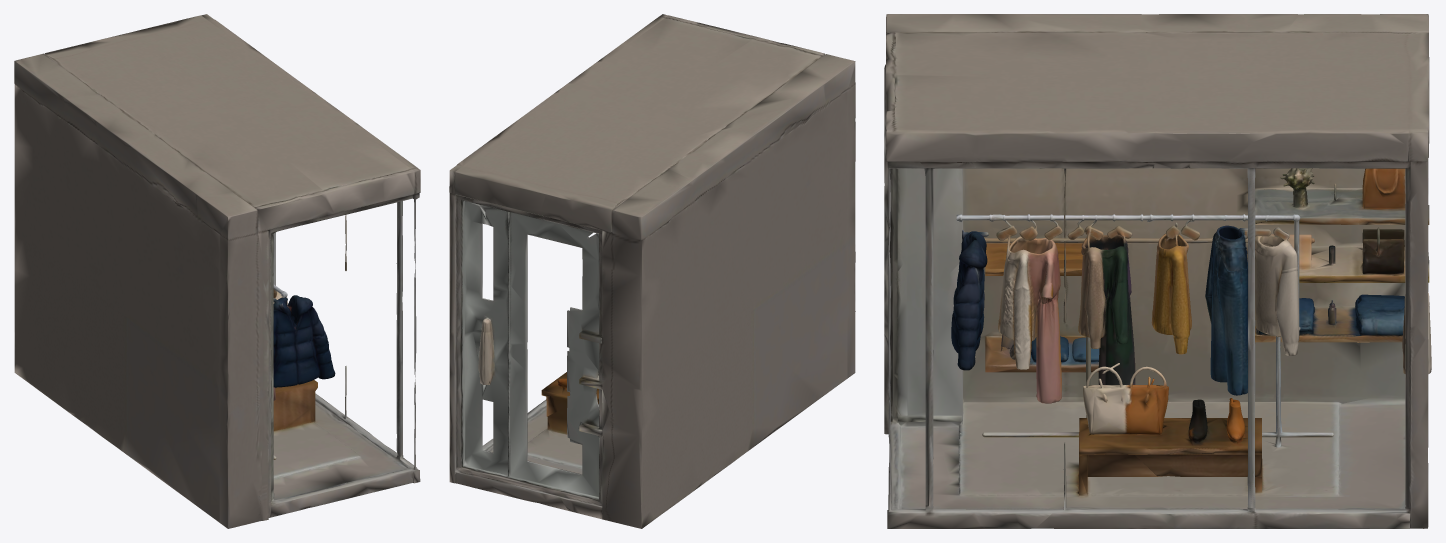
File: frontclv.glb
The picture shows the model from 3 angles, left to right: view 1: azimuth 30°, elevation 25°; view 2: azimuth 150°, elevation 25°; view 3: azimuth 270°, elevation 25°; orthographic projection. The views are drawn at different scales.
Visible parts, largest first — view 1: tripo_node_1101fbf4-2962-4fb8-ab8f-bee9e8e9e34c; view 2: tripo_node_1101fbf4-2962-4fb8-ab8f-bee9e8e9e34c; view 3: tripo_node_1101fbf4-2962-4fb8-ab8f-bee9e8e9e34c.
Part boxes in pixels (x1=…): tripo_node_1101fbf4-2962-4fb8-ab8f-bee9e8e9e34c: x1=14, y1=14, x2=420, y2=528; tripo_node_1101fbf4-2962-4fb8-ab8f-bee9e8e9e34c: x1=449, y1=14, x2=855, y2=528; tripo_node_1101fbf4-2962-4fb8-ab8f-bee9e8e9e34c: x1=884, y1=14, x2=1431, y2=528.
Size of the model in its own units: 1.36 by 2.1 by 2.63.
Materials: 1 (1 with a texture image).
